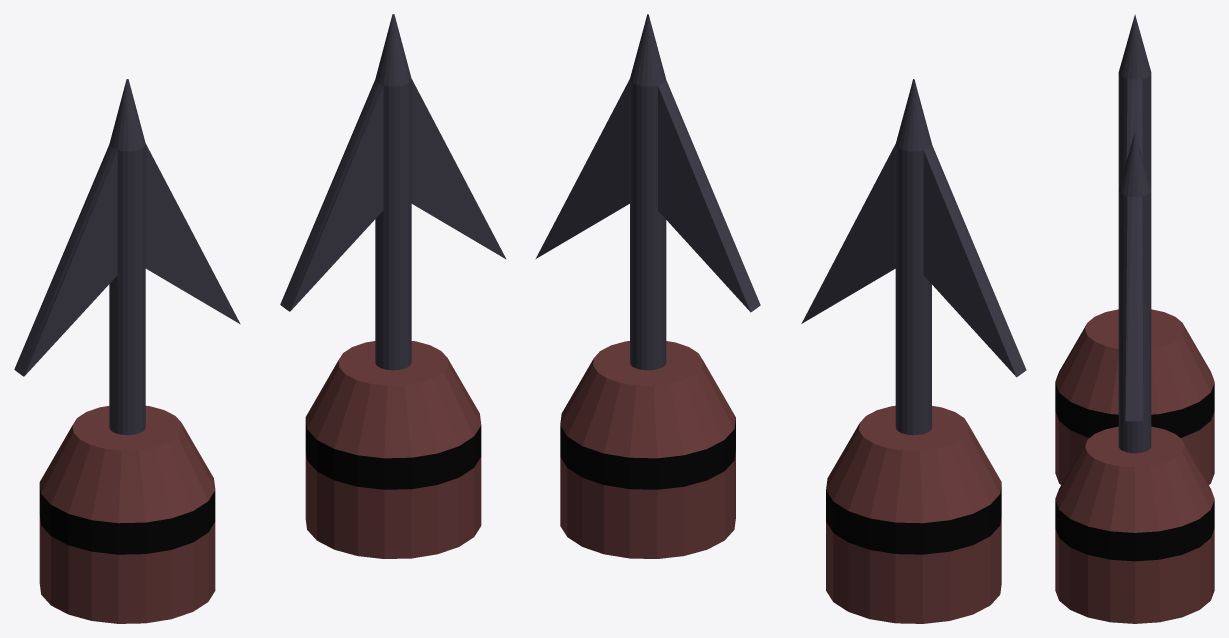
Rendered from BonusDoubleGrapnel.fbx.
The picture shows the model from 3 angles, left to right: view 1: azimuth 30°, elevation 25°; view 2: azimuth 150°, elevation 25°; view 3: azimuth 270°, elevation 25°; orthographic projection. The views are drawn at different scales.
Visible parts, largest first — view 1: Grappin3; view 2: Grappin3; view 3: Grappin3.
Boxes of the visible parts, left/top/right/bottom form: Grappin3: left=14, top=14, right=506, bottom=623; Grappin3: left=535, top=14, right=1026, bottom=623; Grappin3: left=1055, top=14, right=1214, bottom=623.
Bounding box in the file's own units: 45.28 × 45.55 × 14.37.
